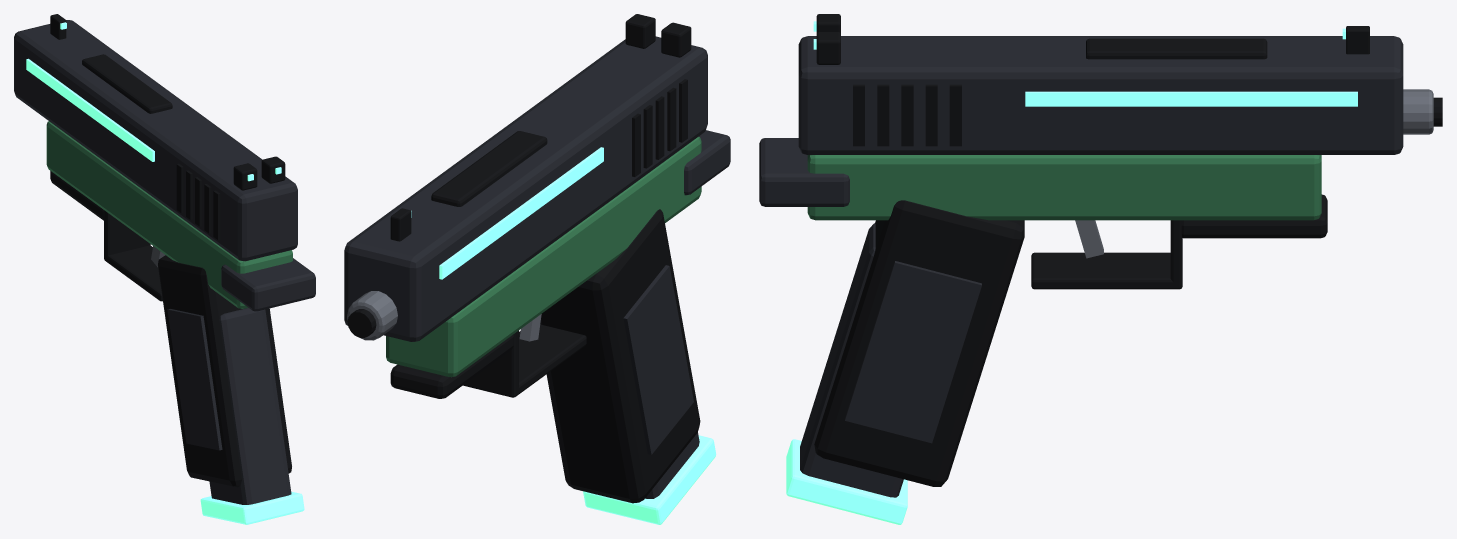
Rendered from pistol.glb.
The picture shows the model from 3 angles, left to right: view 1: azimuth 30°, elevation 25°; view 2: azimuth 150°, elevation 25°; view 3: azimuth 270°, elevation 25°; orthographic projection. The views are drawn at different scales.
Parts seen in each view (by area): view 1: Body, Magazine, IronSights; view 2: Body, Magazine, IronSights; view 3: Body, Magazine, IronSights.
Boxes of the visible parts, box(x1,y1,x2,y2) form: Body: box(14, 20, 315, 487); Magazine: box(200, 308, 304, 524); IronSights: box(50, 14, 285, 190); Body: box(344, 36, 730, 503); Magazine: box(583, 432, 716, 524); IronSights: box(390, 14, 691, 241); Body: box(759, 36, 1442, 486); Magazine: box(786, 223, 907, 524); IronSights: box(813, 14, 1369, 64).
Size of the model in its own units: 0.034 by 0.1751 by 0.226.
